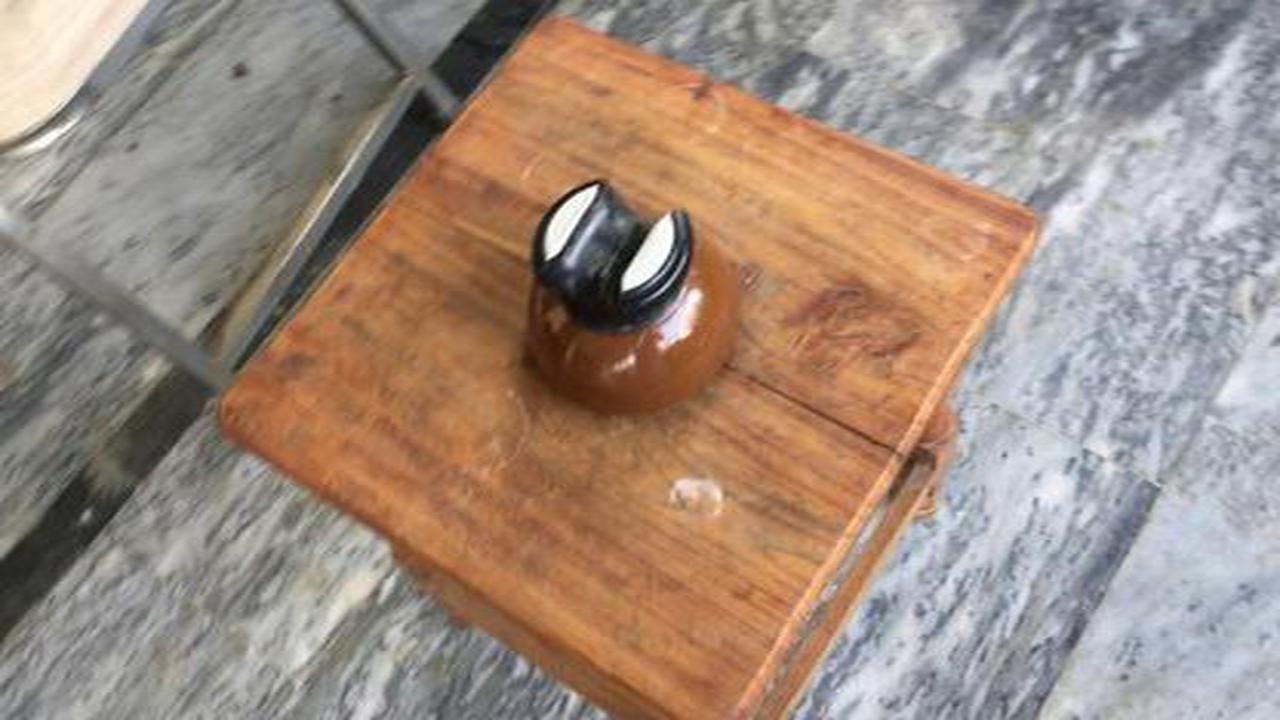insulator_pin: (511, 161, 751, 426)
